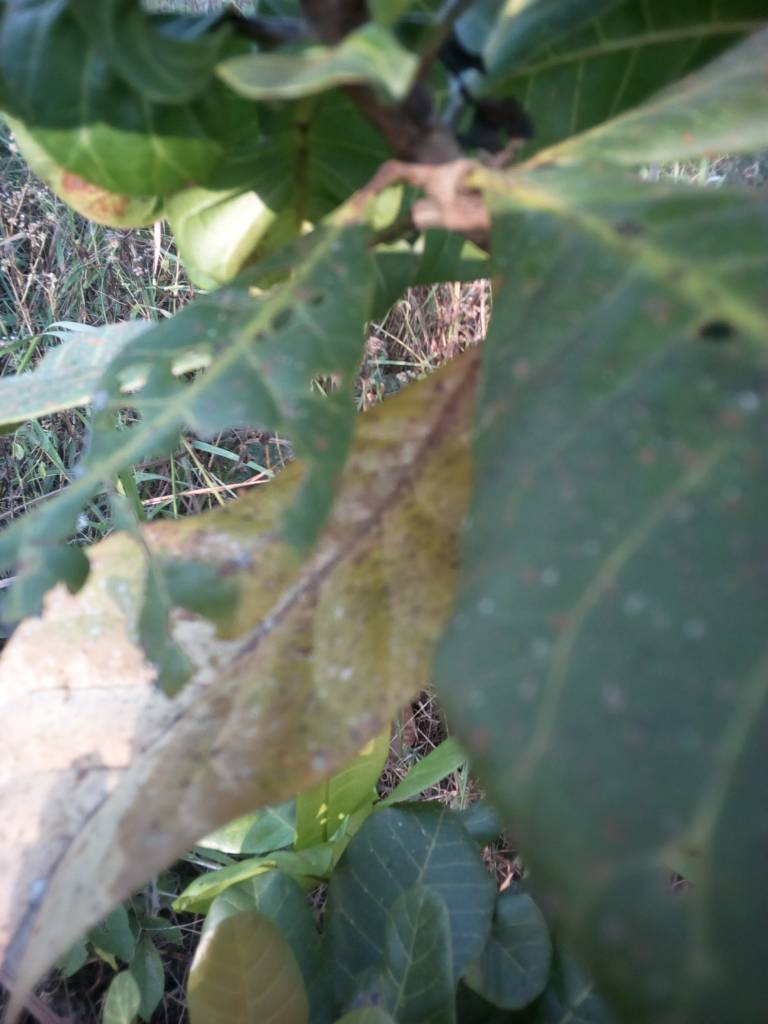Oidium: (449, 149, 768, 1022)
